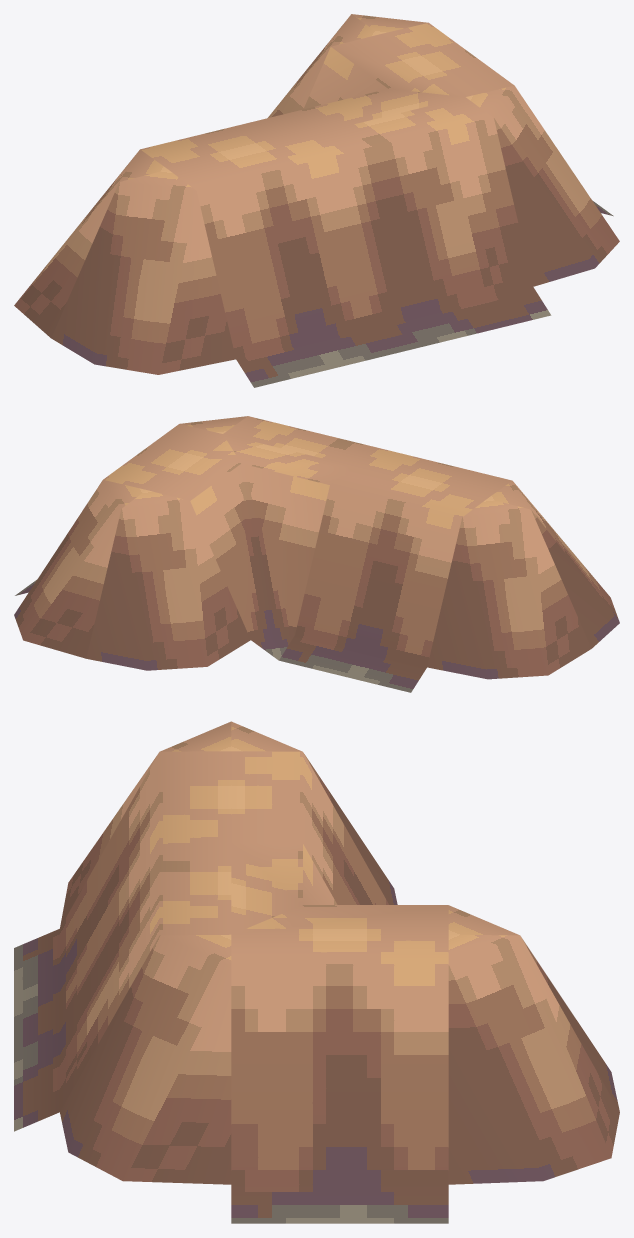
File: hgss-piece-004-element-21-196.glb
3 renders of one model, top to bottom at view 1: azimuth 30°, elevation 25°; view 2: azimuth 150°, elevation 25°; view 3: azimuth 270°, elevation 25°, orthographic. The views are drawn at different scales.
Size of the model in its own units: 3.79 by 1 by 2.79.
1 material, 1 textured.
